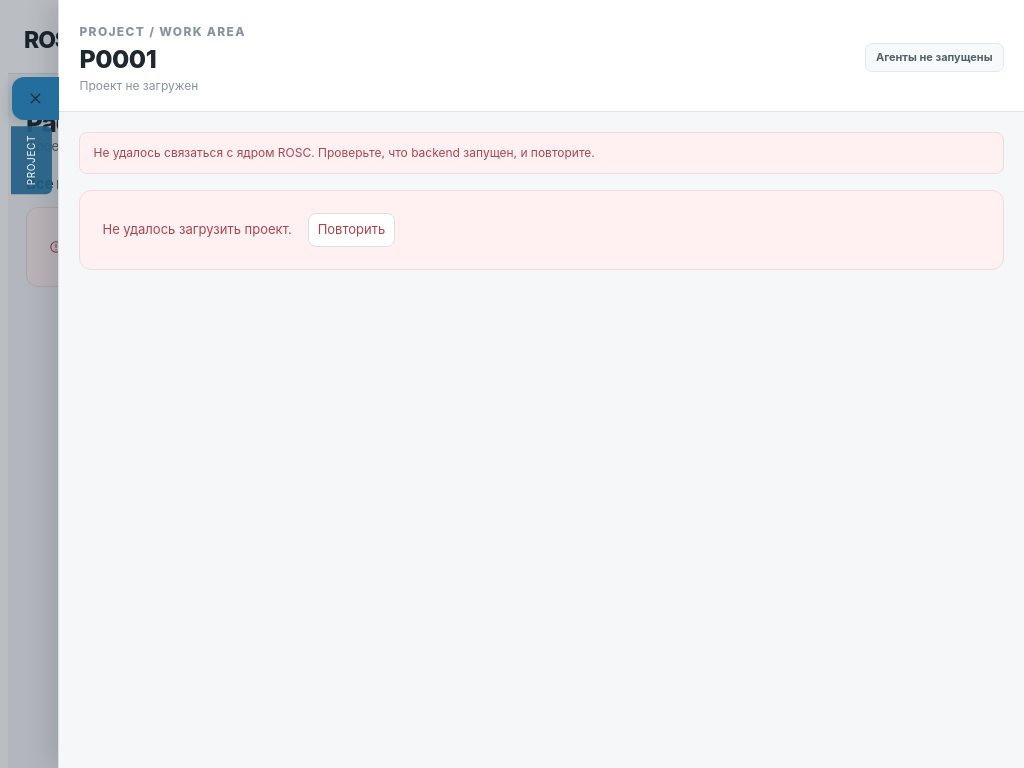
Scenario: loading and retry › shows a retry for a failed Project load and recovers
Expected: the text "Не удалось загрузить проект." is shown, [102,222,292,238]
Expected: the message shows "Не удалось связаться с ядром ROSC", [94,146,595,160]
Click the button "Повторить": click(351, 230) [308,214,395,247]
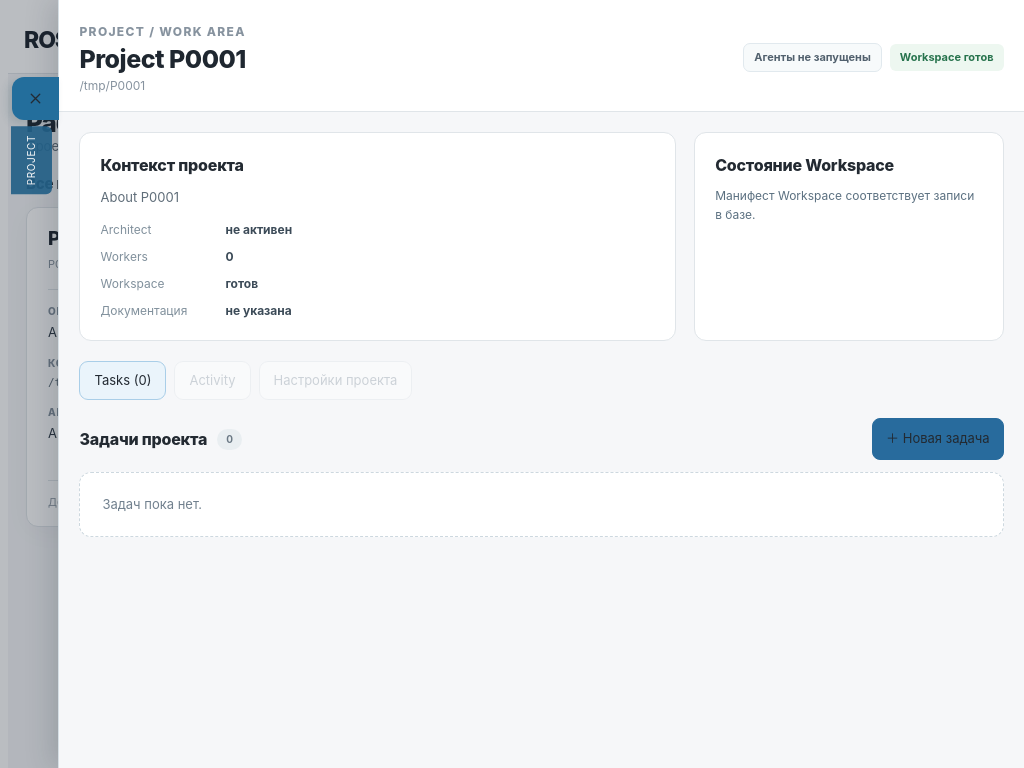
Expected: the heading "Контекст проекта" is shown, [100,156,244,176]
Expected: the message "Не удалось связаться с ядром ROSC. Проверьте, что backend запущен, и повторите." is gone
